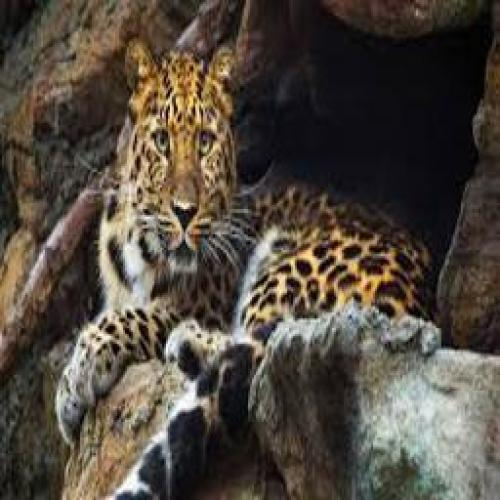amur_leopard-endangered: (50, 35, 442, 435)
